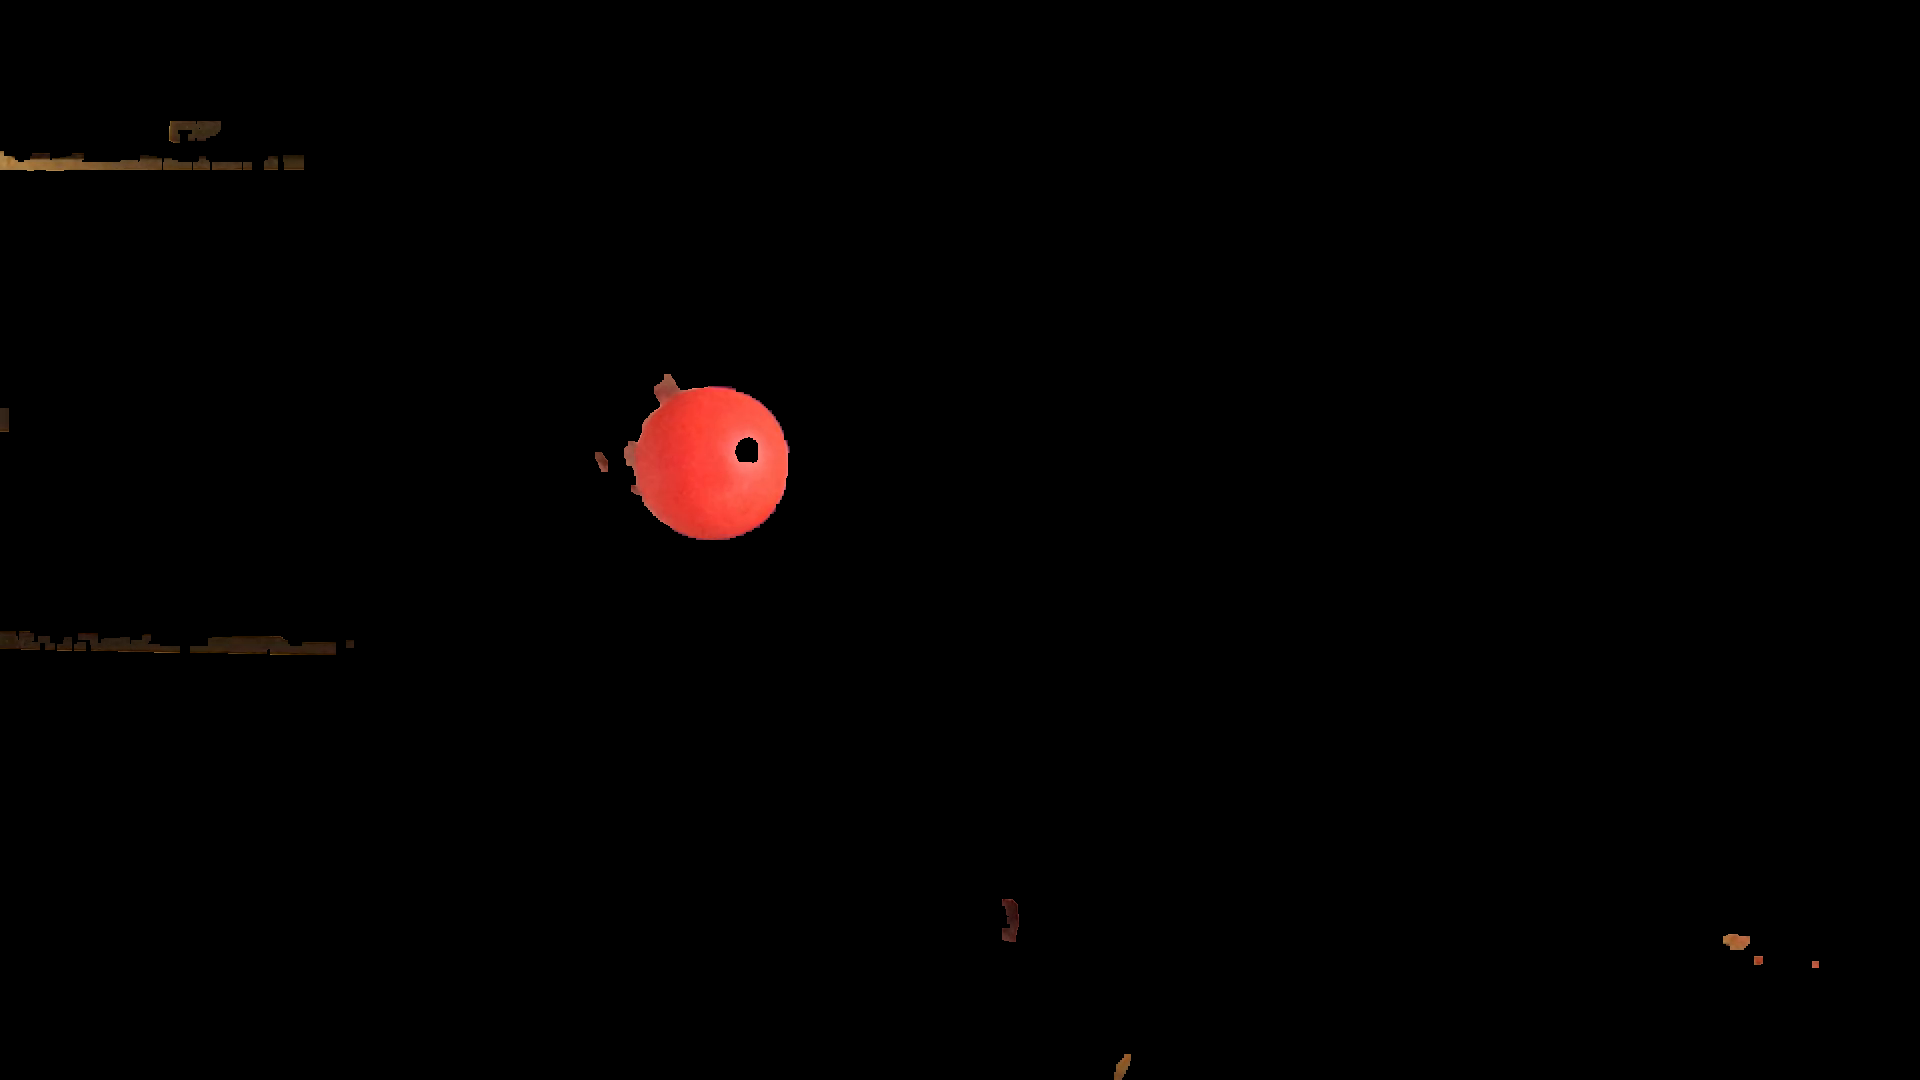Ball: (633, 384, 798, 538)
